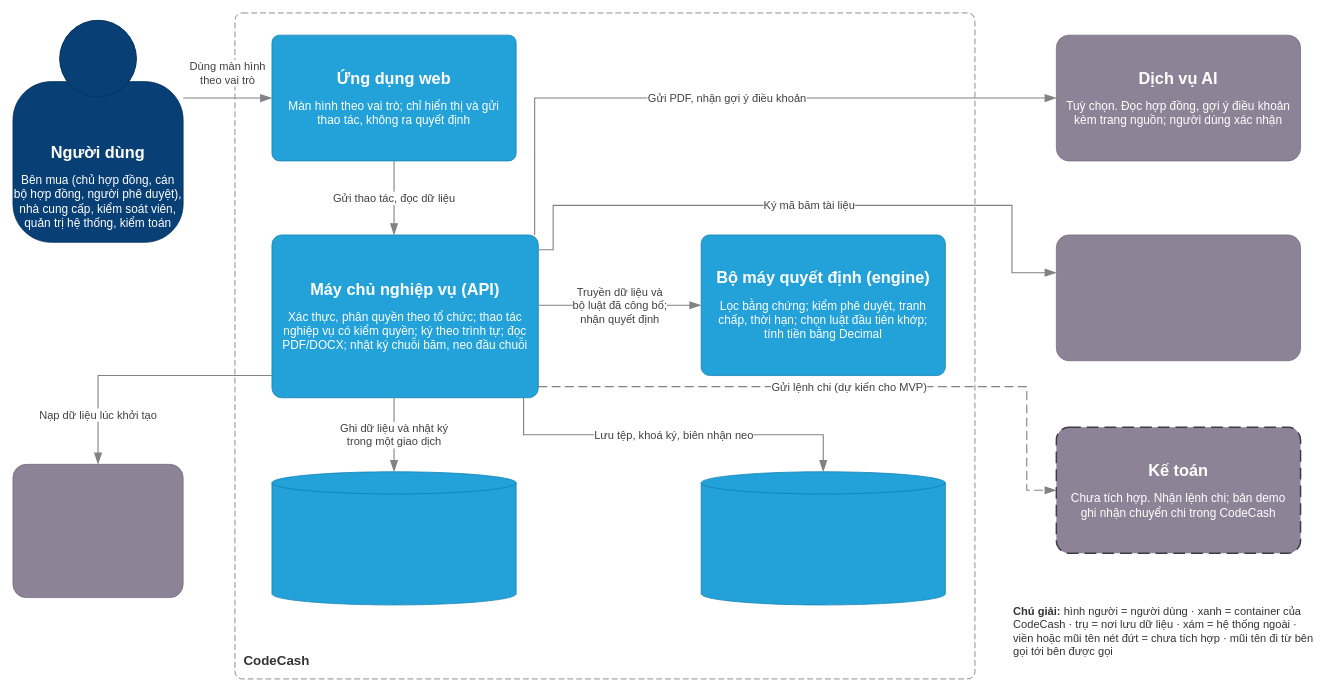
This 1328x692 diagram has some shape labels left out. The shapes that lost their labels are listed below. From the top down, each one's centre as x and y in pixels, then its label:
At (1178,297): "Dịch vụ ký số Tuỳ chọn. Ký mã băm tài liệu; bản demo ký cục bộ trong máy chủ".
At (97,531): "Data Pack BTC Tệp CSV: 100 hợp đồng, 405 mốc, 1.134 sự kiện, 128 luật".
At (393,538): "Cơ sở dữ liệu Hợp đồng, sự kiện, quyết định, phiên bản luật, nhật ký audit".
At (822,538): "Kho tệp Tệp hợp đồng, khoá ký cục bộ, biên nhận neo audit".
